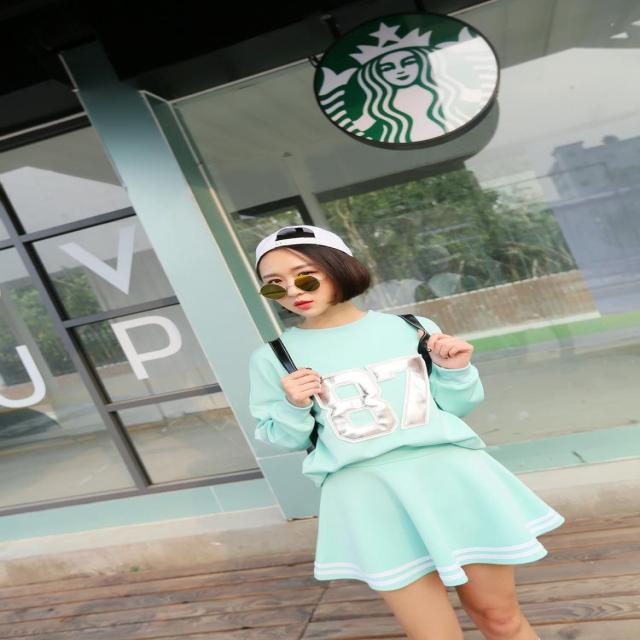long sleeve top: (251, 312, 486, 486)
skirt: (317, 441, 566, 587)
